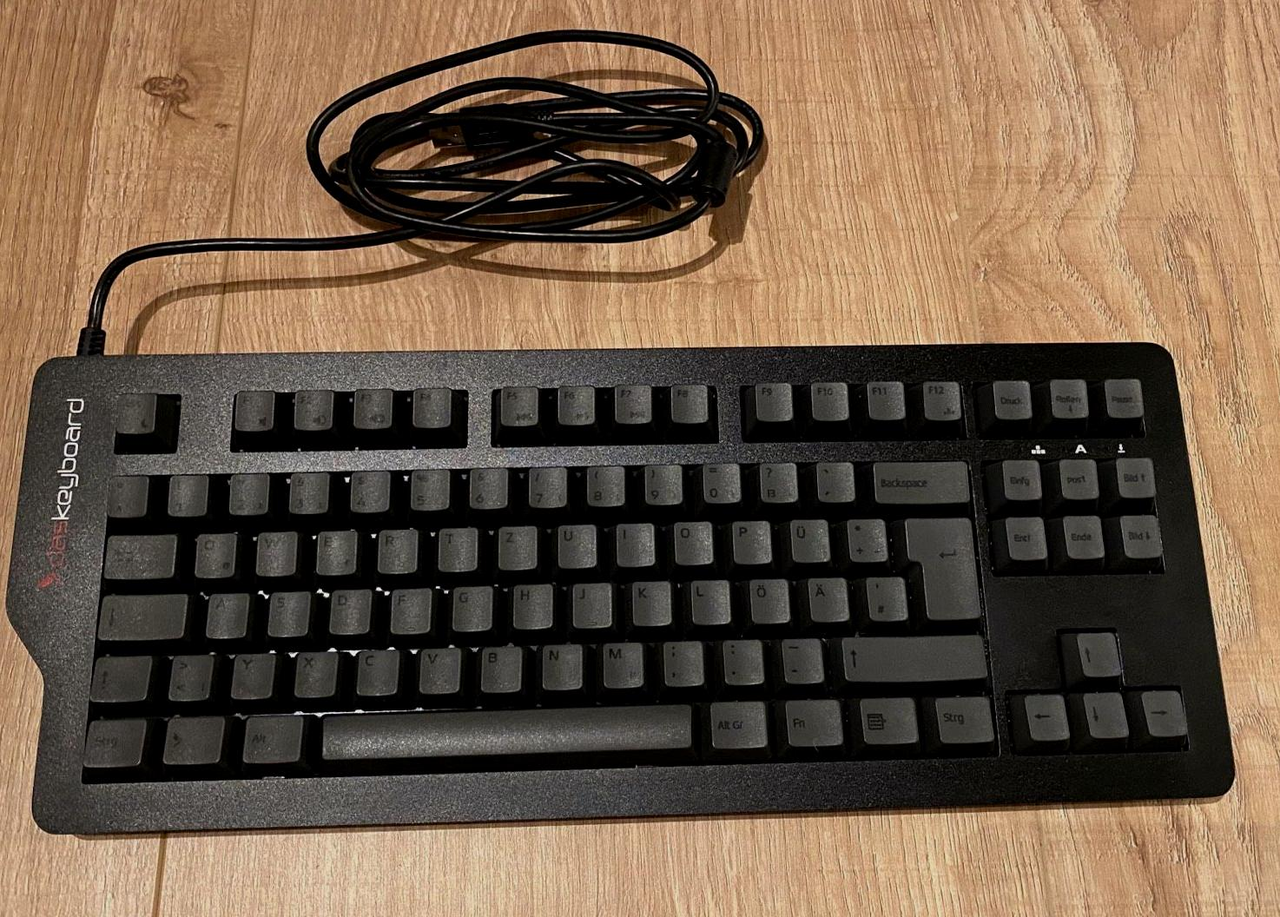0: (698, 458, 742, 504)
1: (166, 471, 208, 516)
2: (226, 470, 270, 514)
3: (286, 468, 329, 514)
4: (346, 468, 391, 512)
5: (407, 465, 451, 511)
6: (466, 465, 509, 509)
7: (525, 464, 568, 508)
8: (584, 462, 626, 506)
9: (641, 461, 683, 505)
a: (203, 590, 248, 638)
accent: (812, 458, 854, 502)
ae: (805, 574, 849, 622)
alt-left: (239, 709, 304, 763)
altgr-right: (706, 697, 769, 749)
b: (476, 642, 522, 692)
c: (353, 645, 399, 696)
caret: (102, 472, 148, 517)
comma: (659, 637, 704, 686)
d: (329, 588, 373, 637)
del: (869, 458, 968, 504)
e: (313, 527, 357, 574)
enter: (901, 511, 980, 620)
f: (387, 584, 432, 633)
g: (448, 583, 493, 631)
h: (509, 581, 554, 629)
hash: (861, 573, 907, 621)
i: (612, 519, 656, 566)
j: (569, 579, 613, 628)
k: (628, 577, 672, 625)
keyboard: (44, 353, 1228, 831)
l: (687, 577, 730, 624)
less: (166, 650, 213, 700)
m: (597, 639, 643, 688)
minus: (777, 635, 823, 683)
n: (537, 642, 584, 689)
o: (670, 518, 714, 564)
oe: (745, 575, 789, 623)
p: (729, 517, 772, 564)
plus: (844, 515, 887, 563)
point: (718, 637, 763, 684)
q: (193, 529, 237, 577)
r: (374, 525, 419, 573)
s: (265, 588, 309, 637)
shift-left: (88, 652, 152, 702)
shift-lock: (96, 590, 189, 639)
shift-right: (839, 631, 986, 681)
space: (317, 703, 697, 762)
ss: (756, 459, 798, 503)
strg-left: (80, 716, 146, 767)
strg-right: (930, 692, 995, 745)
t: (437, 526, 479, 572)
tab: (102, 531, 177, 578)
u: (554, 521, 597, 568)
ue: (787, 515, 830, 564)
v: (415, 644, 461, 693)
w: (254, 530, 299, 577)
x: (291, 647, 337, 696)
y: (228, 650, 274, 698)
z: (495, 523, 538, 569)
